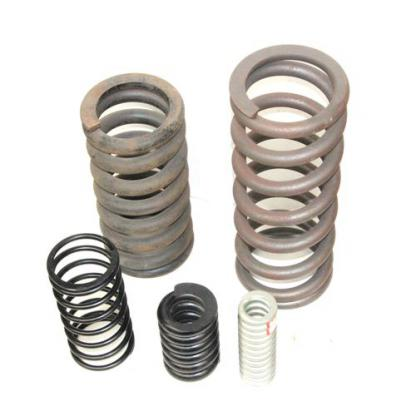FOD: (225, 40, 352, 314), (78, 70, 196, 281), (44, 231, 135, 372), (155, 281, 220, 383), (234, 288, 282, 386)
